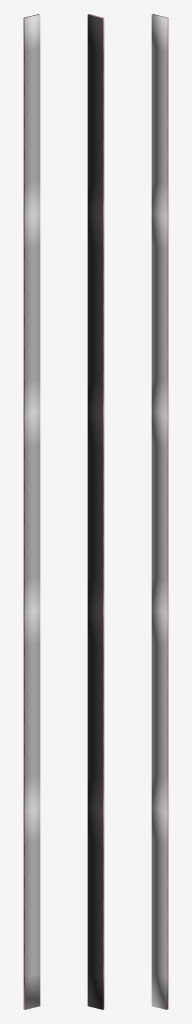
File: Rails_100m_Collider.fbx
3 views of the same model, side by side, from view 1: azimuth 30°, elevation 25°; view 2: azimuth 150°, elevation 25°; view 3: azimuth 330°, elevation 25° (orthographic).
Parts seen in each view (by area): view 1: LP_Rails_100m_Collider; view 2: LP_Rails_100m_Collider; view 3: LP_Rails_100m_Collider.
Boxes of the visible parts, box(x1,y1,x2,y2) form: LP_Rails_100m_Collider: box(23, 14, 40, 1009); LP_Rails_100m_Collider: box(87, 14, 104, 1009); LP_Rails_100m_Collider: box(151, 14, 168, 1009).
Bounding box in the file's own units: 1.62 × 100 × 0.21.
